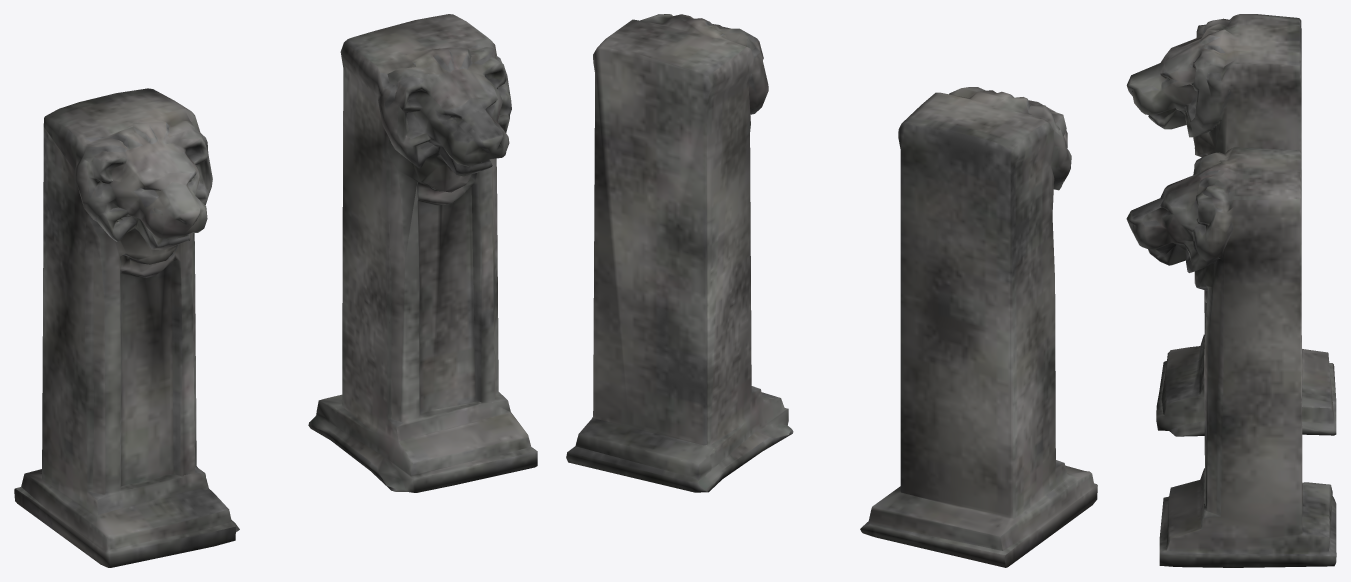
Rendered from sturdy-granite-throne-v001.glb.
The picture shows the model from 3 angles, left to right: view 1: azimuth 30°, elevation 25°; view 2: azimuth 150°, elevation 25°; view 3: azimuth 270°, elevation 25°; orthographic projection. The views are drawn at different scales.
Visible parts, largest first — view 1: sturdy-granite-throne; view 2: sturdy-granite-throne; view 3: sturdy-granite-throne.
Part boxes in pixels (x1,y1,x2,y2): sturdy-granite-throne: (14, 14, 537, 567); sturdy-granite-throne: (566, 14, 1097, 567); sturdy-granite-throne: (1126, 14, 1336, 567).
Bounding box in the file's own units: 1.81 × 1.63 × 0.8309.
1 material, 1 textured.
